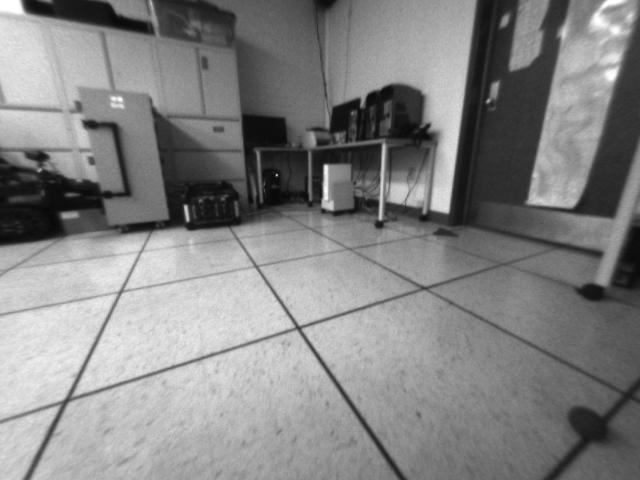dogtoy: (561, 394, 623, 447)
